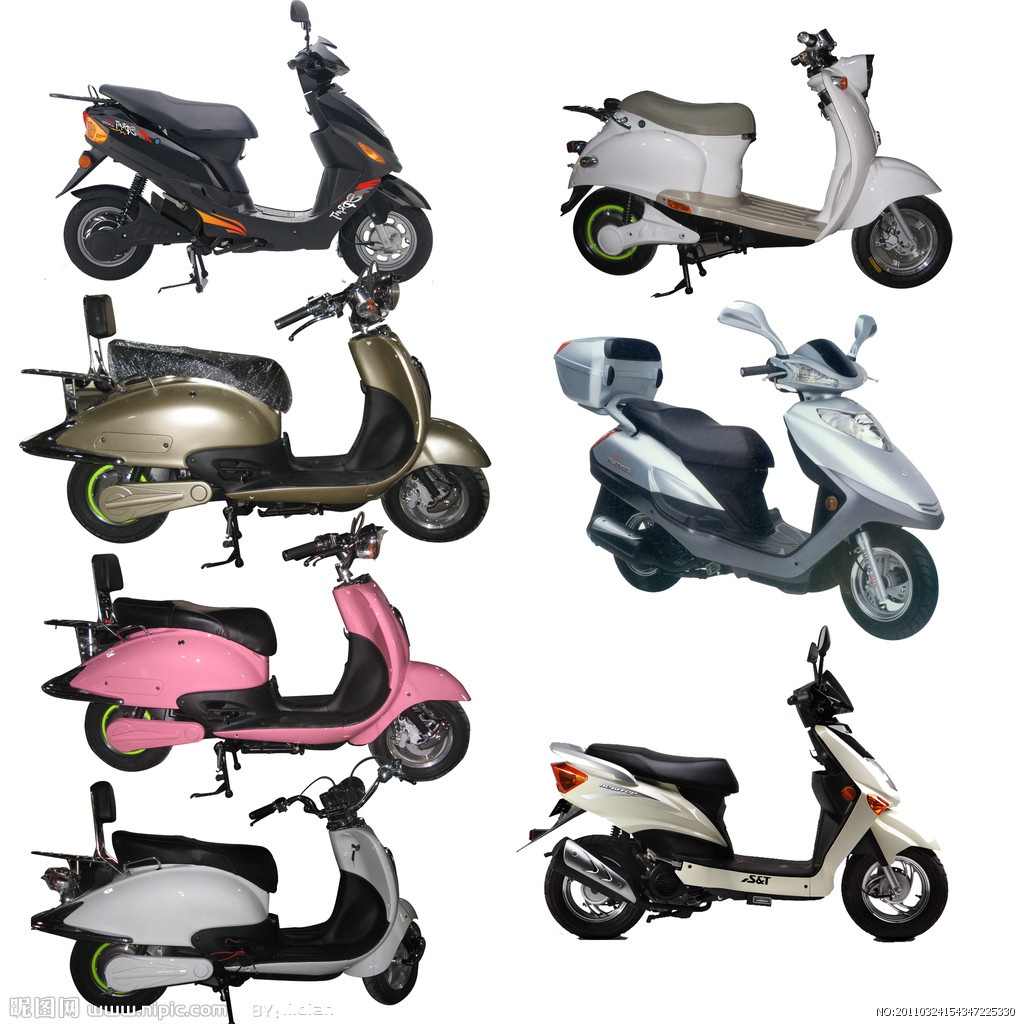non-vehicle: (556, 306, 947, 639), (27, 279, 495, 549), (532, 673, 950, 951), (560, 32, 957, 294), (44, 544, 474, 785), (46, 30, 433, 289), (34, 769, 431, 1019)
